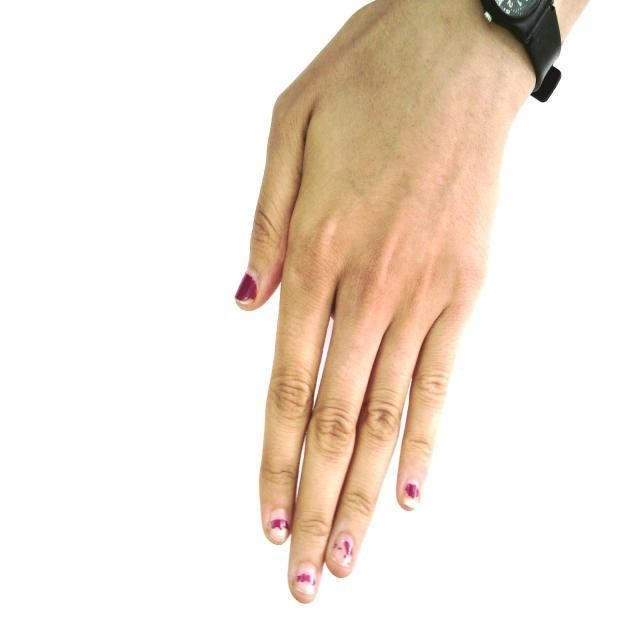Fingernail: (294, 564, 317, 600), (268, 510, 288, 543), (236, 273, 256, 303), (331, 536, 351, 564), (403, 482, 418, 509)
